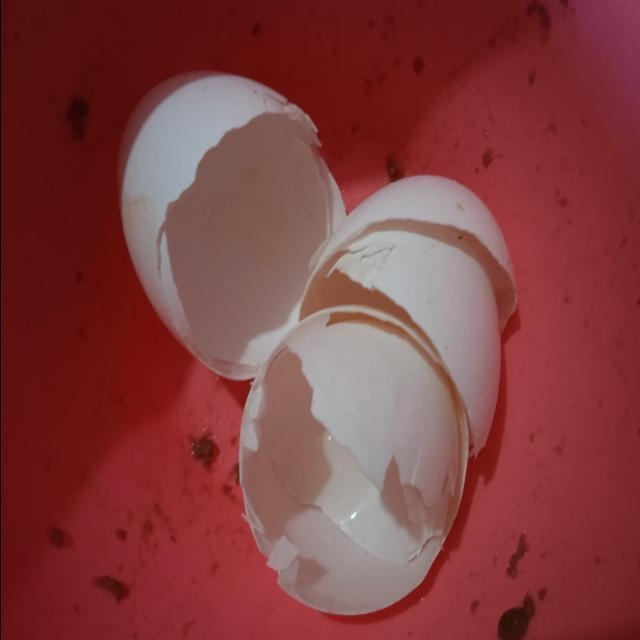egg shell: (237, 304, 471, 616), (114, 73, 350, 377), (294, 168, 516, 448)
